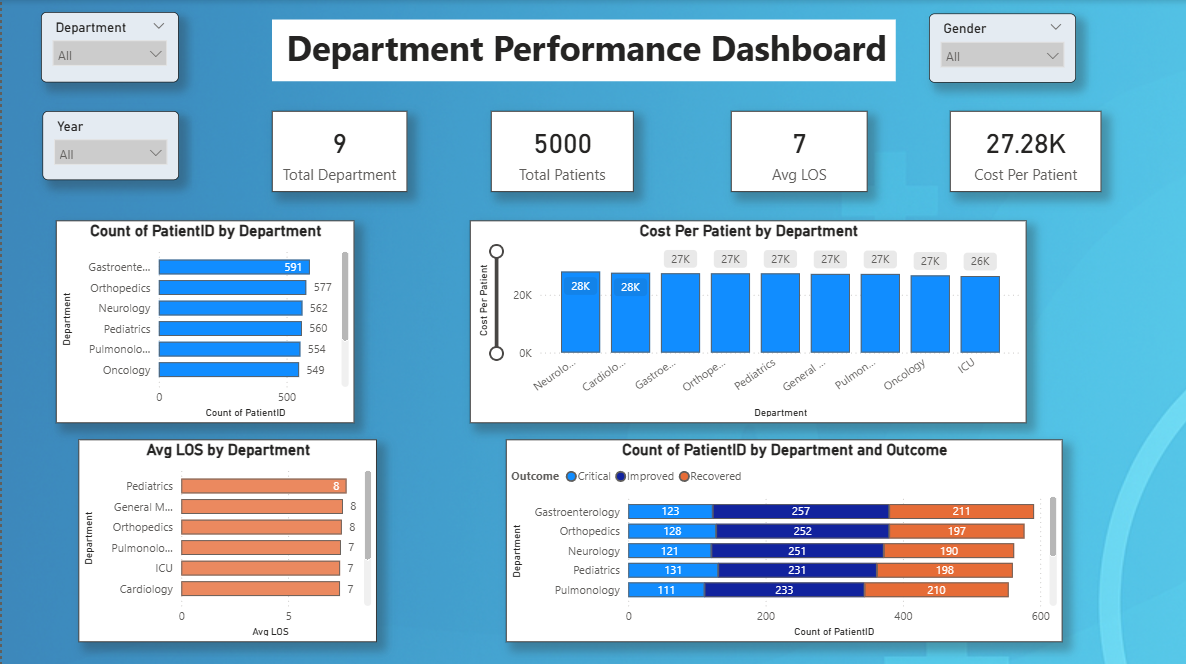

This screenshot's page, from the dashboard's own definition file:
{"tool":"powerbi","page":{"name":" Department Performance Dashboard","canvas":[1280,720],"ordinal":2},"visuals":[{"type":"textbox","box":[291.5,21,673.6,66.4],"z":0},{"type":"slicer","fields":{"Values":["healthcare_project_5000.Department"]},"box":[42.1,13,149,76.1],"z":1000},{"type":"slicer","fields":{"Values":["healthcare_project_5000.Year"]},"box":[43.7,119.8,147.3,74.5],"z":2000},{"type":"slicer","fields":{"Values":["healthcare_project_5000.Gender"]},"box":[1000.7,14.6,158.7,74.5],"z":3000},{"type":"card","fields":{"Values":["healthcare_project_5000.Total Department"]},"box":[291.5,119.8,145.7,87.4],"z":4000},{"type":"card","fields":{"Values":["healthcare_project_5000.Total Patients"]},"box":[527.9,119.8,153.8,87.4],"z":5000},{"type":"card","fields":{"Values":["healthcare_project_5000.Avg LOS"]},"box":[786.9,119.8,147.3,87.4],"z":6000},{"type":"card","fields":{"Values":["healthcare_project_5000.Cost Per Patient"]},"box":[1023.4,119.8,163.5,87.4],"z":7000},{"type":"barChart","fields":{"Category":["healthcare_project_5000.Department"],"Y":["CountNonNull(healthcare_project_5000.PatientID)"]},"box":[58.3,238,322.2,218.6],"z":8000},{"type":"barChart","fields":{"Y":["healthcare_project_5000.Avg LOS"],"Category":["healthcare_project_5000.Department"]},"box":[82.6,474.4,322.2,218.6],"z":9000},{"type":"columnChart","fields":{"Category":["healthcare_project_5000.Department"],"Y":["healthcare_project_5000.Cost Per Patient"]},"box":[505.2,238,600.7,218.6],"z":10000},{"type":"barChart","fields":{"Category":["healthcare_project_5000.Department"],"Series":["healthcare_project_5000.Outcome"],"Y":["CountNonNull(healthcare_project_5000.PatientID)"]},"box":[544.1,474.4,600.7,218.6],"z":11000}]}

Visuals, with their boxes in screenshot pixels (x1, y1, x2, y2), scaled from the page's 1280x720 canvas onto the 1186x664 screenshot:
textbox: [x1=270, y1=19, x2=894, y2=81]
slicer - healthcare_project_5000.Department: [x1=39, y1=12, x2=177, y2=82]
slicer - healthcare_project_5000.Year: [x1=40, y1=110, x2=177, y2=179]
slicer - healthcare_project_5000.Gender: [x1=927, y1=13, x2=1074, y2=82]
card - healthcare_project_5000.Total Department: [x1=270, y1=110, x2=405, y2=191]
card - healthcare_project_5000.Total Patients: [x1=489, y1=110, x2=632, y2=191]
card - healthcare_project_5000.Avg LOS: [x1=729, y1=110, x2=866, y2=191]
card - healthcare_project_5000.Cost Per Patient: [x1=948, y1=110, x2=1100, y2=191]
barChart - healthcare_project_5000.Department x CountNonNull(healthcare_project_5000.PatientID): [x1=54, y1=219, x2=353, y2=421]
barChart - healthcare_project_5000.Avg LOS x healthcare_project_5000.Department: [x1=77, y1=438, x2=375, y2=639]
columnChart - healthcare_project_5000.Department x healthcare_project_5000.Cost Per Patient: [x1=468, y1=219, x2=1025, y2=421]
barChart - healthcare_project_5000.Department x healthcare_project_5000.Outcome: [x1=504, y1=438, x2=1061, y2=639]
